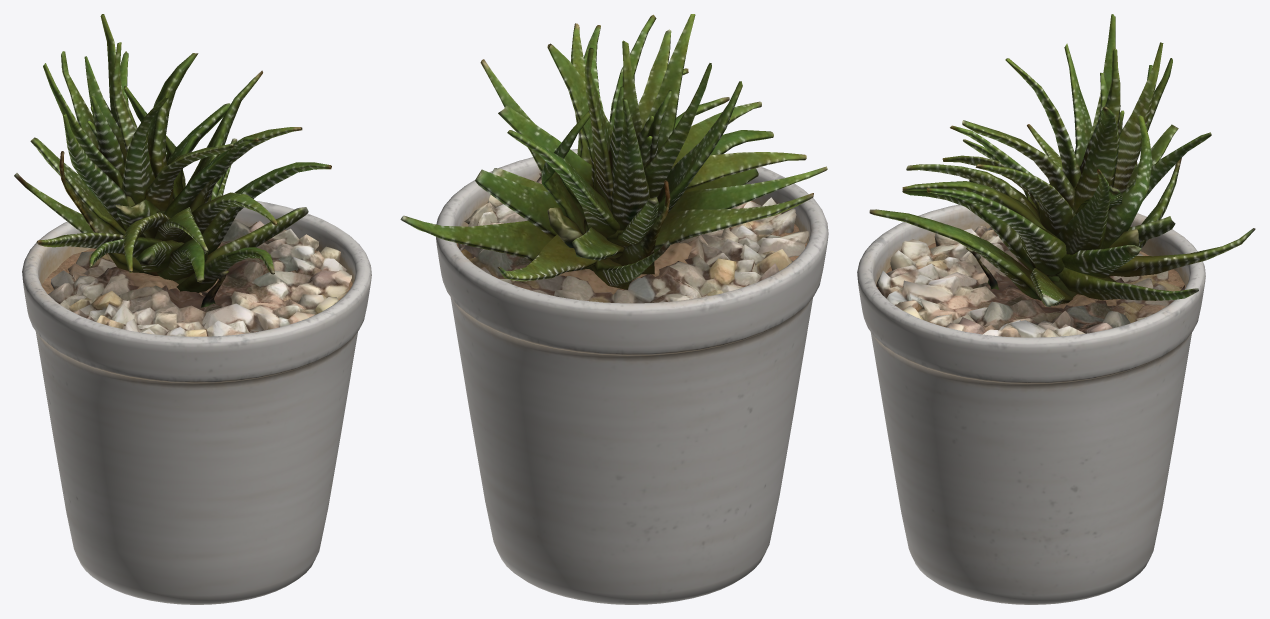
Rendered from living-plant-b.glb.
The picture shows the model from 3 angles, left to right: view 1: azimuth 30°, elevation 25°; view 2: azimuth 150°, elevation 25°; view 3: azimuth 270°, elevation 25°; orthographic projection. The views are drawn at different scales.
Parts seen in each view (by area): view 1: potted_plant_04_pot, potted_plant_04_plant, potted_plant_04_ground, potted_plant_04_dirt; view 2: potted_plant_04_pot, potted_plant_04_plant, potted_plant_04_ground, potted_plant_04_dirt; view 3: potted_plant_04_pot, potted_plant_04_plant, potted_plant_04_ground, potted_plant_04_dirt.
Boxes of the visible parts, <box> form: potted_plant_04_pot: <box>22,201,371,604</box>; potted_plant_04_plant: <box>14,14,331,307</box>; potted_plant_04_ground: <box>48,219,351,336</box>; potted_plant_04_dirt: <box>41,246,352,304</box>; potted_plant_04_pot: <box>436,149,828,604</box>; potted_plant_04_plant: <box>400,14,827,289</box>; potted_plant_04_ground: <box>458,173,808,303</box>; potted_plant_04_dirt: <box>456,201,806,294</box>; potted_plant_04_pot: <box>857,204,1205,604</box>; potted_plant_04_plant: <box>869,14,1255,306</box>; potted_plant_04_ground: <box>876,226,1184,337</box>; potted_plant_04_dirt: <box>876,242,1185,308</box>.
Bounding box in the file's own units: 0.1731 × 0.2675 × 0.1919.
Materials: 1 (1 with a texture image).
